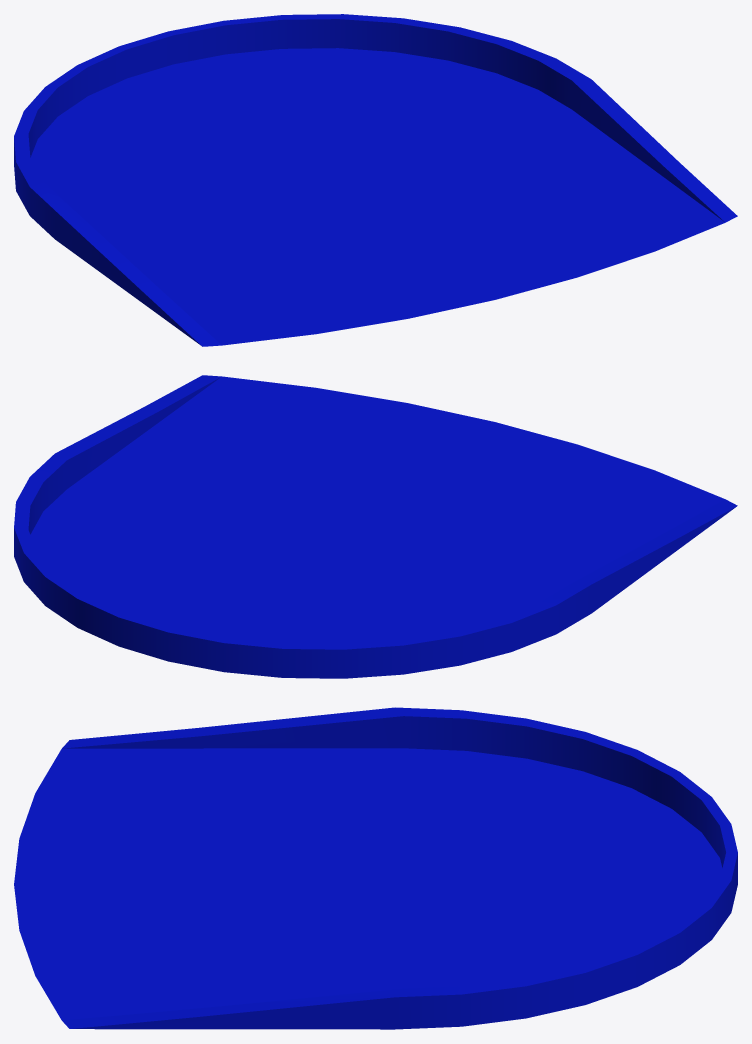
File: 03-Gauge-Front-Cover-Bevel.fbx
3 views of the same model, one above another, from view 1: azimuth 30°, elevation 25°; view 2: azimuth 150°, elevation 25°; view 3: azimuth 270°, elevation 25° (orthographic). The views are drawn at different scales.
Parts seen in each view (by area): view 1: 03-Gauge-Front-Cover-Bevel; view 2: 03-Gauge-Front-Cover-Bevel; view 3: 03-Gauge-Front-Cover-Bevel.
Part boxes in pixels (left/top/right/bottom): 03-Gauge-Front-Cover-Bevel: left=14, top=14, right=737, bottom=346; 03-Gauge-Front-Cover-Bevel: left=14, top=375, right=737, bottom=678; 03-Gauge-Front-Cover-Bevel: left=14, top=707, right=737, bottom=1029.
Bounding box in the file's own units: 60.85 × 3.15 × 64.23.
